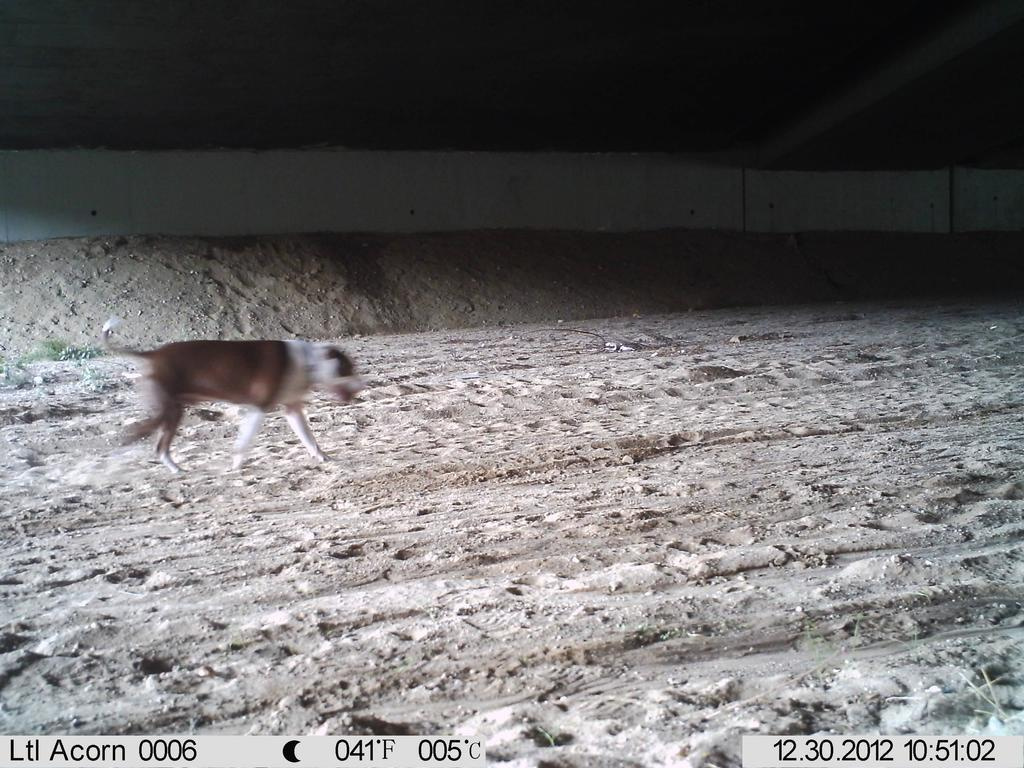dog: (103, 318, 364, 483)
